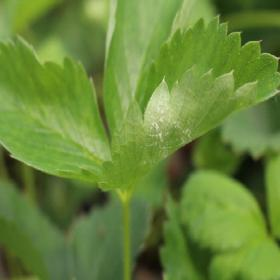Powdery Mildew Leaf: (97, 13, 279, 192)
